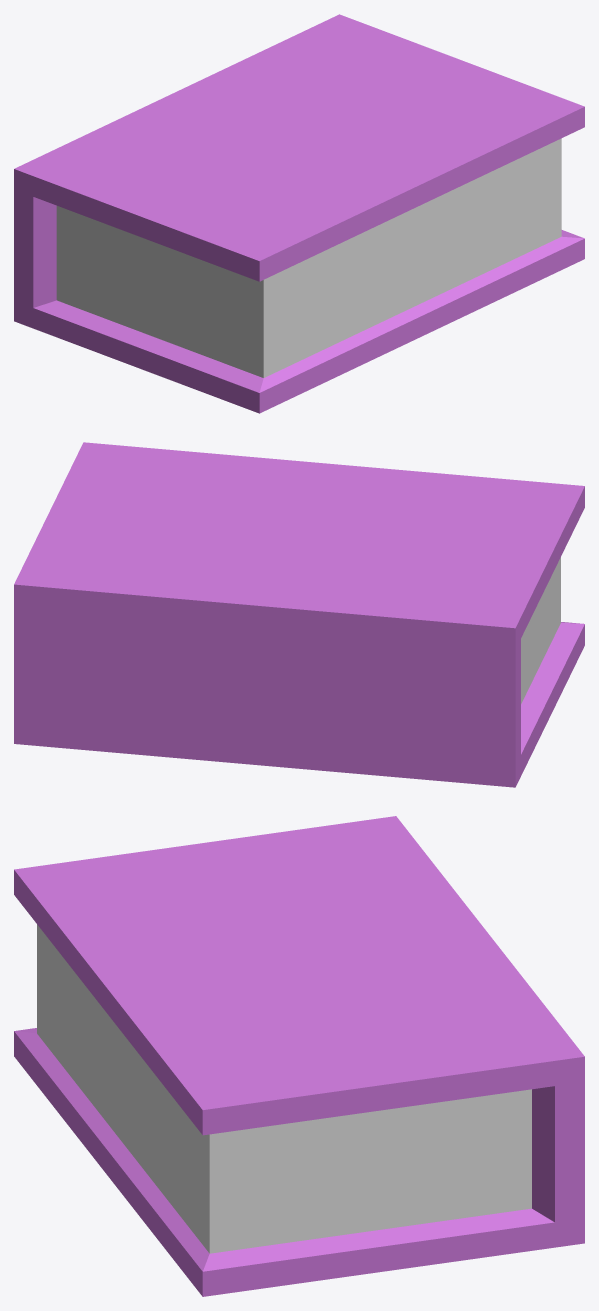
Rendered from Libros.076.fbx.
3 views of the same model, one above another, from view 1: azimuth 30°, elevation 25°; view 2: azimuth 150°, elevation 25°; view 3: azimuth 270°, elevation 25° (orthographic). The views are drawn at different scales.
Visible parts, largest first — view 1: Libros.076; view 2: Libros.076; view 3: Libros.076.
Boxes of the visible parts, left/top/right/bottom form: Libros.076: left=14, top=14, right=584, bottom=413; Libros.076: left=14, top=442, right=584, bottom=787; Libros.076: left=14, top=816, right=584, bottom=1296.
Size of the model in its own units: 47.49 by 14.06 by 38.95.
